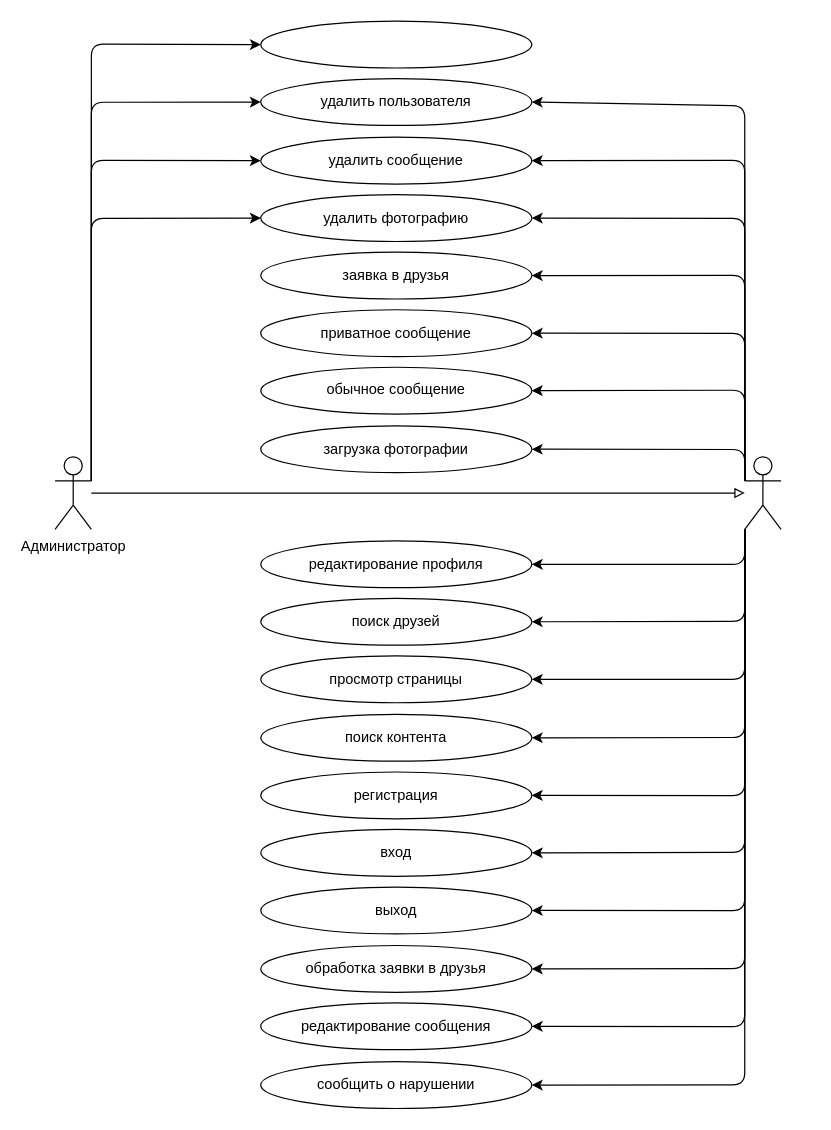
Some shapes in this 831 by 1130 pixel diagram are drawn without their labels. Each missing label, with the centre of its shape:
заблокировать пользователя: pixel 396 44
Пользователь: pixel 762 492
